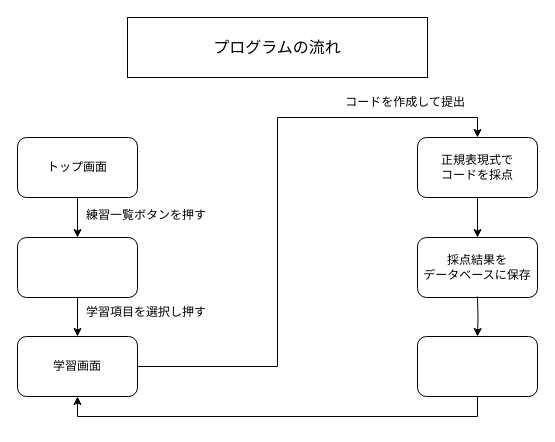
Image size: 555x442. Some labels were removed from this diagram. The box of each missing label's shape, as (x1, y1, x2, y2) in pixels:
採点結果を 画面に出力: (416, 336, 538, 396)
練習一覧画面: (16, 236, 138, 298)
